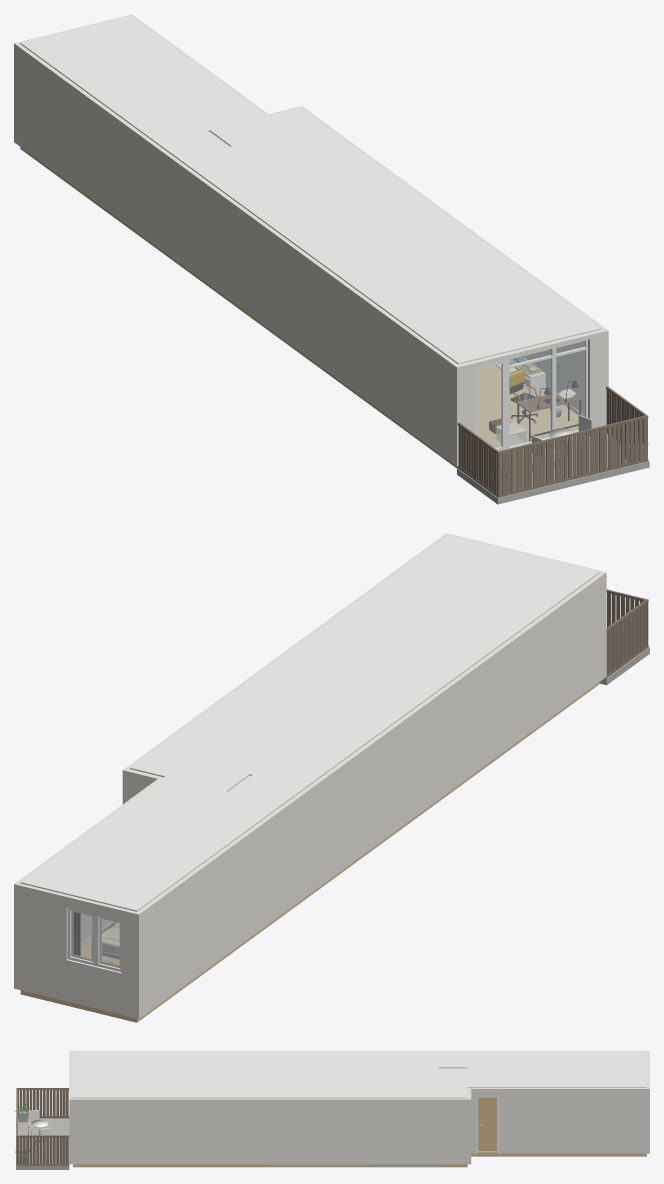
Rendered from hoskins-flat.glb.
The picture shows the model from 3 angles, top to bottom: view 1: azimuth 30°, elevation 25°; view 2: azimuth 150°, elevation 25°; view 3: azimuth 270°, elevation 25°; orthographic projection. The views are drawn at different scales.
Parts seen in each view (by area): view 1: IfcWall/W_west, ceiling_reception, ceiling_bedroom, IfcRailing/Balcony fence, ceiling_hall, IfcWindow/Reception glazing, ceiling_kitchen, ceiling_bathroom, floor_reception, IfcWall/W_east, IfcDoor/Balcony door, floor_balcony (+6 smaller); view 2: IfcWall/W_west, ceiling_reception, ceiling_bedroom, IfcWall/W_north, ceiling_hall, ceiling_kitchen, ceiling_bathroom, IfcRailing/Balcony fence, IfcWindow/Bedroom window, ceiling_lobby, ceiling_meter, floor_bedroom (+3 smaller); view 3: IfcWall/W_east, IfcWall/W_east_bed, ceiling_reception, ceiling_bedroom, ceiling_hall, ceiling_kitchen, IfcRailing/Balcony fence, ceiling_bathroom, floor_balcony, IfcDoor/Front door, ceiling_lobby, floor_reception (+9 smaller).
Part boxes in pixels (x1=…): IfcWall/W_west: x1=18, y1=45, x2=465, y2=466; ceiling_reception: x1=300, y1=218, x2=601, y2=364; ceiling_bedroom: x1=20, y1=16, x2=233, y2=127; IfcRailing/Balcony fence: x1=457, y1=386, x2=648, y2=497; ceiling_hall: x1=135, y1=114, x2=348, y2=248; IfcWindow/Reception glazing: x1=475, y1=339, x2=587, y2=454; ceiling_kitchen: x1=283, y1=163, x2=451, y2=241; ceiling_bathroom: x1=229, y1=124, x2=376, y2=186; floor_reception: x1=300, y1=352, x2=598, y2=468; IfcWall/W_east: x1=303, y1=109, x2=608, y2=430; IfcDoor/Balcony door: x1=475, y1=360, x2=505, y2=450; floor_balcony: x1=457, y1=433, x2=649, y2=504; IfcWall/W_west: x1=140, y1=570, x2=606, y2=1014; ceiling_reception: x1=290, y1=535, x2=599, y2=695; ceiling_bedroom: x1=20, y1=802, x2=257, y2=911; IfcWall/W_north: x1=14, y1=880, x2=143, y2=1018; ceiling_hall: x1=206, y1=682, x2=432, y2=822; ceiling_kitchen: x1=210, y1=651, x2=388, y2=733; ceiling_bathroom: x1=153, y1=709, x2=308, y2=775; IfcRailing/Balcony fence: x1=605, y1=589, x2=648, y2=678; IfcWindow/Bedroom window: x1=67, y1=908, x2=121, y2=972; ceiling_lobby: x1=130, y1=776, x2=228, y2=815; ceiling_meter: x1=130, y1=750, x2=224, y2=784; floor_bedroom: x1=20, y1=932, x2=257, y2=1022; IfcWall/W_east: x1=69, y1=1097, x2=466, y2=1164; IfcWall/W_east_bed: x1=471, y1=1087, x2=643, y2=1153; ceiling_reception: x1=73, y1=1051, x2=280, y2=1098; ceiling_bedroom: x1=497, y1=1051, x2=646, y2=1087; ceiling_hall: x1=280, y1=1051, x2=496, y2=1068; ceiling_kitchen: x1=269, y1=1067, x2=368, y2=1098; IfcRailing/Balcony fence: x1=16, y1=1088, x2=69, y2=1165; ceiling_bathroom: x1=368, y1=1067, x2=438, y2=1098; floor_balcony: x1=16, y1=1117, x2=69, y2=1169; IfcDoor/Front door: x1=475, y1=1095, x2=499, y2=1153; ceiling_lobby: x1=467, y1=1067, x2=510, y2=1087; floor_reception: x1=73, y1=1164, x2=269, y2=1167.
Bounding box in the file's own units: 3.99 × 2.63 × 21.35.
